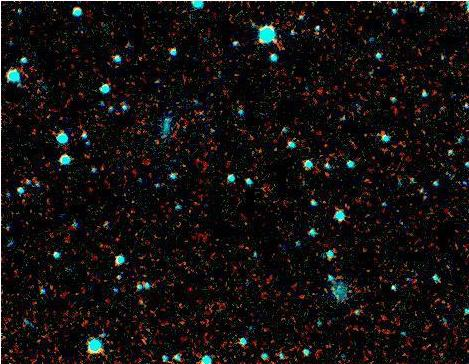star: (258, 27, 288, 57)
